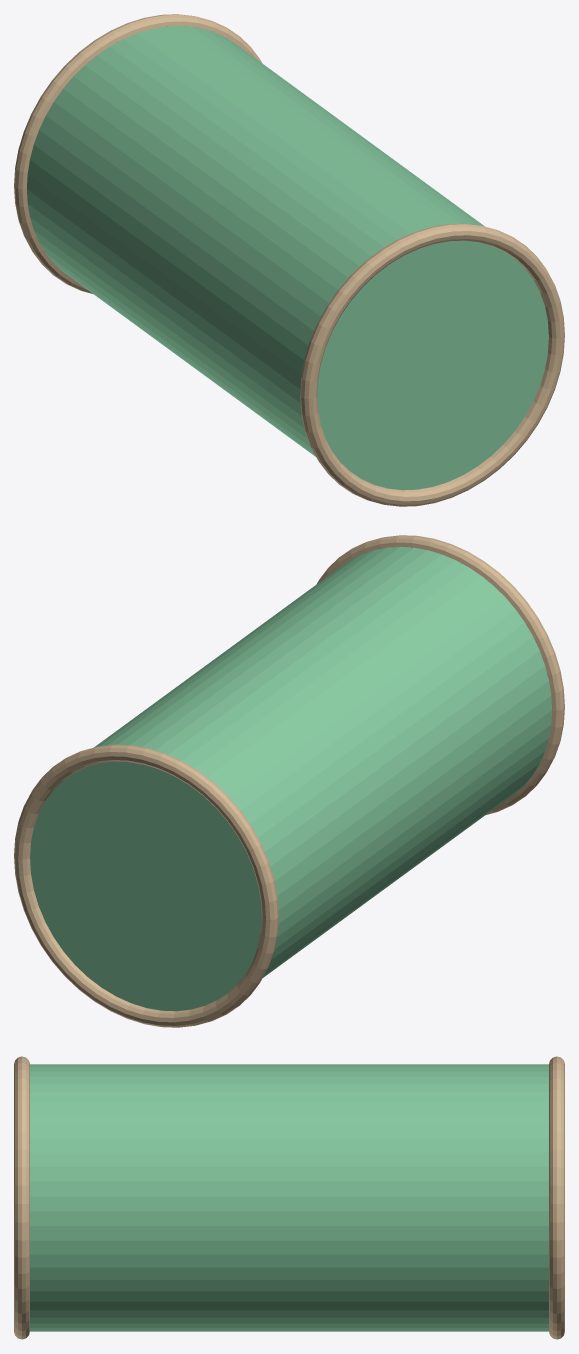
Rendered from arca.glb.
3 views of the same model, one above another, from view 1: azimuth 30°, elevation 25°; view 2: azimuth 150°, elevation 25°; view 3: azimuth 270°, elevation 25° (orthographic). The views are drawn at different scales.
Visible parts, largest first — view 1: drum_0, cap_fore_1, cap_aft_2; view 2: drum_0, cap_aft_2, cap_fore_1; view 3: drum_0, cap_fore_1, cap_aft_2.
Part boxes in pixels (x1,y1,x2,y2): drum_0: (27,25,548,490); cap_fore_1: (300,223,564,506); cap_aft_2: (14,14,261,293); drum_0: (30,546,551,1011); cap_aft_2: (14,744,278,1027); cap_fore_1: (317,535,564,814); drum_0: (30,1064,548,1331); cap_fore_1: (14,1056,29,1339); cap_aft_2: (549,1056,564,1339).
Bounding box in the file's own units: 1.06 × 1.06 × 2.06.
